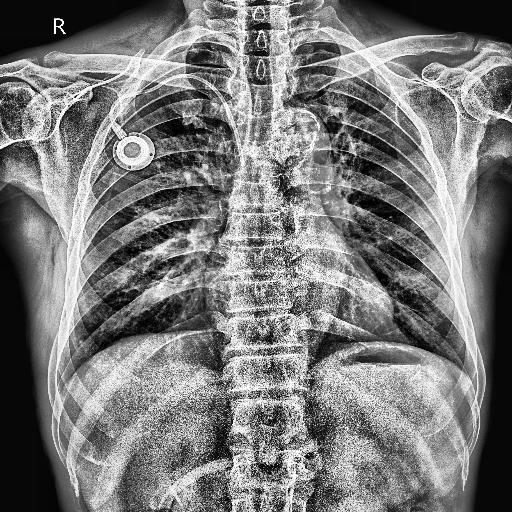0- Aortic enlargement: (272, 104, 334, 186), (274, 106, 334, 186), (277, 108, 333, 178)
